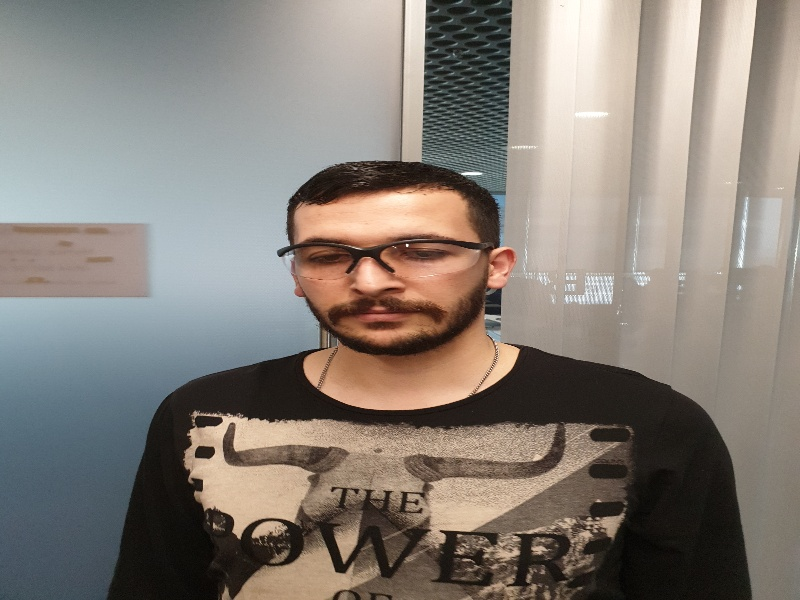Gozluk: (278, 235, 505, 272)
